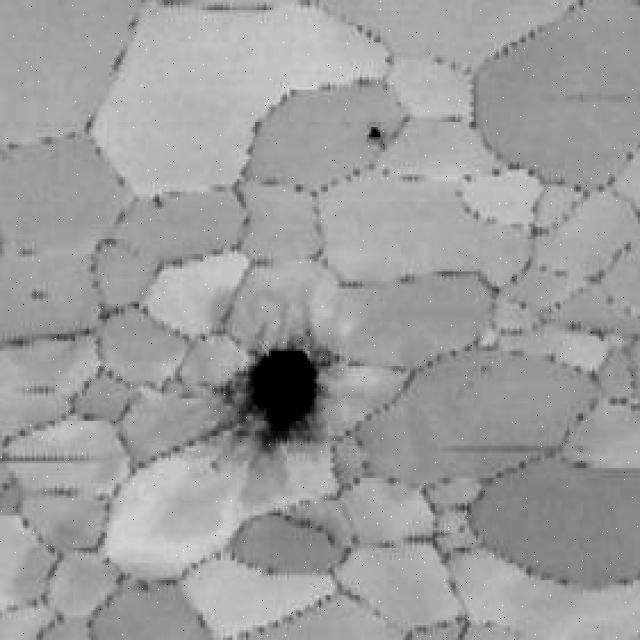good_void: (218, 344, 319, 461), (367, 123, 384, 144), (148, 190, 166, 208)
